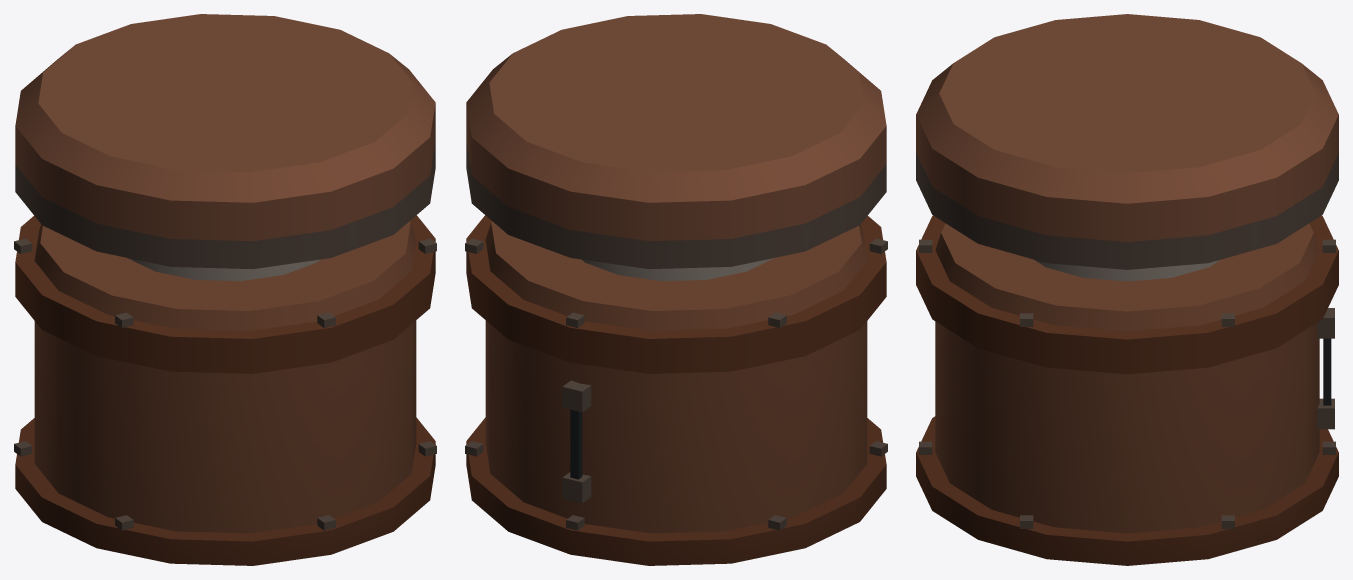
Rendered from machine.piston.rust.glb.
3 renders of one model, left to right at view 1: azimuth 30°, elevation 25°; view 2: azimuth 150°, elevation 25°; view 3: azimuth 270°, elevation 25°, orthographic.
Visible parts, largest first — view 1: machine_piston_rust; view 2: machine_piston_rust; view 3: machine_piston_rust.
Boxes of the visible parts, <box> form: machine_piston_rust: <box>14,14,436,565</box>; machine_piston_rust: <box>465,14,887,565</box>; machine_piston_rust: <box>916,14,1338,565</box>.
Size of what is drawn, in the model's own units: 2.2 by 2.2 by 2.2.
